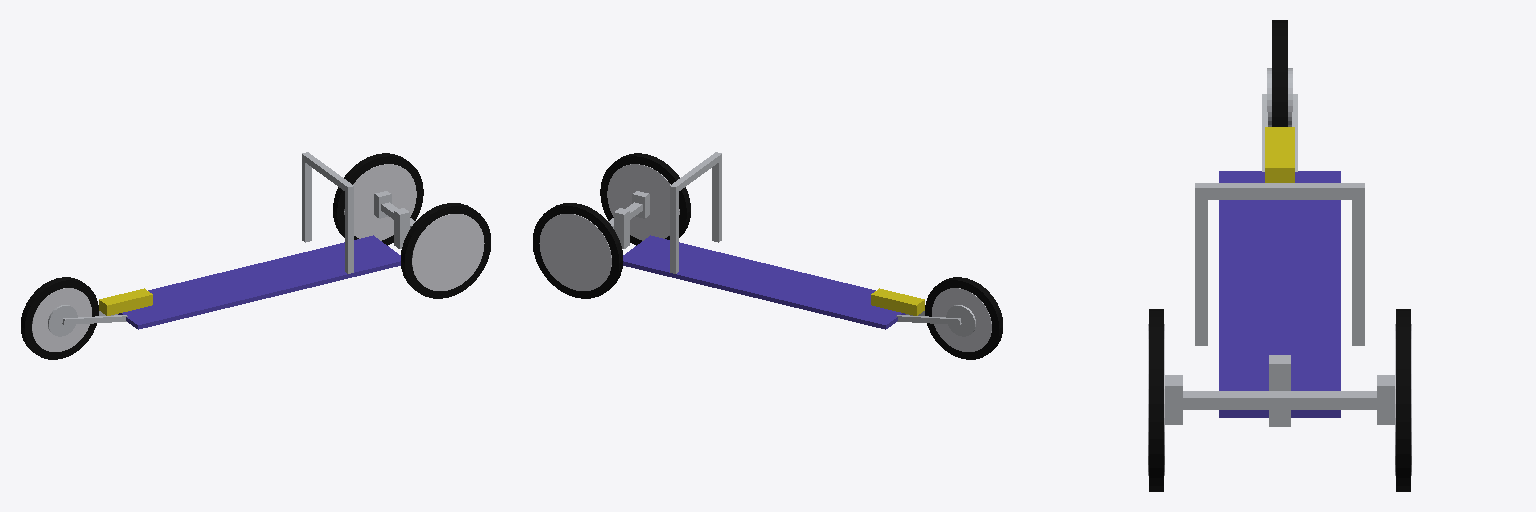
URDF robot description (enimia_black):
<?xml version="1.0"?>
<!--
  ENIMIA - Black Edition (ENIM Team Tunisia) - Prototype Shell Eco-marathon      v3 (surface lissee)
  Carrosserie reconstruite a partir des silhouettes des vues de dessus et de cote :
    - profil de toit / bas de caisse releve pixel par pixel sur la vue de cote
    - largeur (plan) relevee sur la vue de dessus
    - 2 carenes de roues avant (contour releve sur la vue de cote + vue de dessus)
    - vitrage (cockpit + vitres laterales) et bord de fuite rouge separes
  v3 : profils C2 (B-splines), raccords carenes/fuselage arrondis, lissage de Taubin,
       maillages COLLADA (.dae) avec normales par sommet -> ombrage lisse dans RViz/Gazebo.
       Copies STL (ombrage plat) dans meshes/stl/ pour les outils qui ne lisent pas le DAE.
  Dimensions : L 2684 x l 770 x h 695 mm, empattement 1704 mm,
               voie avant 567 mm, masse 25 kg
  Porte-a-faux : avant 593 mm, arriere 387 mm
  Roues : avant R 210 mm (limite par la carene), arriere R 180 mm (arc du pneu)

  Arbre cinematique :
    base_footprint (sol, milieu de l'empattement)
      └─ base_link (chassis, a hauteur d'axe avant)
           ├─ body_link               (coque + vitrage + bord de fuite, fixe : contient tout)
           ├─ front_left_steer_link   (revolute)   └─ front_left_wheel_link  (continuous)
           ├─ front_right_steer_link  (revolute)   └─ front_right_wheel_link (continuous)
           └─ rear_wheel_link         (continuous, motrice)
  Reperes REP-103 : X avant, Y gauche, Z haut. Unites SI.
-->
<robot name="enimia_black">

  <!-- ===================== Materiaux ===================== -->
  <material name="carbon_black"><color rgba="0.07 0.07 0.08 0.55"/></material>
  <material name="glass"><color rgba="0.20 0.32 0.40 0.35"/></material>
  <material name="tail_red"><color rgba="0.80 0.08 0.08 0.9"/></material>
  <material name="aluminium"><color rgba="0.75 0.76 0.78 1.0"/></material>
  <material name="tire"><color rgba="0.10 0.10 0.10 1.0"/></material>
  <material name="rim"><color rgba="0.82 0.82 0.84 1.0"/></material>
  <material name="floor"><color rgba="0.35 0.30 0.70 1.0"/></material>
  <material name="battery"><color rgba="0.85 0.80 0.15 1.0"/></material>

  <!-- ===================== Base ===================== -->
  <link name="base_footprint"/>

  <joint name="base_footprint_joint" type="fixed">
    <parent link="base_footprint"/>
    <child link="base_link"/>
    <origin xyz="0 0 0.21" rpy="0 0 0"/>
  </joint>

  <!-- Chassis : plancher, traverse avant, colonne de direction, arceau, bras arriere, batterie -->
  <link name="base_link">
    <visual>
      <origin xyz="0.0955 0.0000 -0.0850" rpy="0 0 0"/>
      <geometry><box size="1.3 0.28 0.02"/></geometry>
      <material name="floor"/>
    </visual>
    <visual>
      <origin xyz="0.8520 0.0000 0.0000" rpy="0 0 0"/>
      <geometry><box size="0.04 0.48 0.03"/></geometry>
      <material name="aluminium"/>
    </visual>
    <visual>
      <origin xyz="0.8020 0.0000 0.0000" rpy="0 0 0"/>
      <geometry><box size="0.05 0.05 0.16"/></geometry>
      <material name="aluminium"/>
    </visual>
    <visual>
      <origin xyz="0.4455 0.0000 0.3400" rpy="0 0 0"/>
      <geometry><box size="0.03 0.39 0.03"/></geometry>
      <material name="aluminium"/>
    </visual>
    <visual>
      <origin xyz="0.4455 0.1800 0.1500" rpy="0 0 0"/>
      <geometry><box size="0.03 0.03 0.39"/></geometry>
      <material name="aluminium"/>
    </visual>
    <visual>
      <origin xyz="0.4455 -0.1800 0.1500" rpy="0 0 0"/>
      <geometry><box size="0.03 0.03 0.39"/></geometry>
      <material name="aluminium"/>
    </visual>
    <visual>
      <origin xyz="-0.7020 0.0350 -0.0575" rpy="0 0.18 0"/>
      <geometry><box size="0.31 0.015 0.025"/></geometry>
      <material name="aluminium"/>
    </visual>
    <visual>
      <origin xyz="-0.7020 -0.0350 -0.0575" rpy="0 0.18 0"/>
      <geometry><box size="0.31 0.015 0.025"/></geometry>
      <material name="aluminium"/>
    </visual>
    <visual>
      <origin xyz="-0.5320 0.0000 -0.0300" rpy="0 0 0"/>
      <geometry><box size="0.22 0.07 0.05"/></geometry>
      <material name="battery"/>
    </visual>
    <collision>
      <origin xyz="0.0955 0 -0.0850" rpy="0 0 0"/>
      <geometry><box size="1.3 0.28 0.02"/></geometry>
    </collision>
    <inertial>
      <origin xyz="-0.05 0 -0.050" rpy="0 0 0"/>
      <mass value="12.7"/>
      <inertia ixx="0.137583" ixy="0" ixz="0" iyy="2.42358" iyz="0" izz="2.4765"/>
    </inertial>
  </link>

  <!-- ===================== Coque (corps) ===================== -->
  <!-- Maillages exprimes dans le repere sol (origine au milieu de l'empattement) -->
  <link name="body_link">
    <visual>
      <origin xyz="0 0 0" rpy="0 0 0"/>
      <geometry><mesh filename="package://enimia_black_description/meshes/body_shell.dae"/></geometry>
      <material name="carbon_black"/>
    </visual>
    <visual>
      <origin xyz="0 0 0" rpy="0 0 0"/>
      <geometry><mesh filename="package://enimia_black_description/meshes/canopy.dae"/></geometry>
      <material name="glass"/>
    </visual>
    <visual>
      <origin xyz="0 0 0" rpy="0 0 0"/>
      <geometry><mesh filename="package://enimia_black_description/meshes/tail_tip.dae"/></geometry>
      <material name="tail_red"/>
    </visual>
    <collision>
      <origin xyz="0 0 0" rpy="0 0 0"/>
      <geometry><mesh filename="package://enimia_black_description/meshes/body_collision.stl"/></geometry>
    </collision>
    <inertial>
      <origin xyz="0.1939 0 0.329146" rpy="0 0 0"/>
      <mass value="7.0"/>
      <inertia ixx="0.587735" ixy="0.00022506" ixz="0.084203" iyy="3.65022" iyz="0" izz="3.67245"/>
    </inertial>
  </link>

  <joint name="body_joint" type="fixed">
    <parent link="base_link"/>
    <child link="body_link"/>
    <origin xyz="0 0 -0.21" rpy="0 0 0"/>
  </joint>

  <!-- ===================== Roue avant gauche (dans sa carene) ===================== -->
  <link name="front_left_steer_link">
    <visual>
      <origin xyz="0 -0.040 0" rpy="0 0 0"/>
      <geometry><box size="0.06 0.04 0.10"/></geometry>
      <material name="aluminium"/>
    </visual>
    <inertial>
      <origin xyz="0 -0.040 0" rpy="0 0 0"/>
      <mass value="0.4"/>
      <inertia ixx="0.000386667" ixy="0" ixz="0" iyy="0.000453333" iyz="0" izz="0.000173333"/>
    </inertial>
  </link>

  <joint name="front_left_steer_joint" type="revolute">
    <parent link="base_link"/>
    <child link="front_left_steer_link"/>
    <origin xyz="0.8520 0.2835 0" rpy="0 0 0"/>
    <axis xyz="0 0 1"/>
    <limit lower="-0.21" upper="0.21" effort="20" velocity="2.0"/>
    <dynamics damping="0.1" friction="0.05"/>
  </joint>

  <link name="front_left_wheel_link">
    <visual>
      <origin xyz="0 0 0" rpy="1.5708 0 0"/>
      <geometry><cylinder radius="0.21" length="0.035"/></geometry>
      <material name="tire"/>
    </visual>
    <visual>
      <origin xyz="0 0 0" rpy="1.5708 0 0"/>
      <geometry><cylinder radius="0.175" length="0.039"/></geometry>
      <material name="rim"/>
    </visual>
    <collision>
      <origin xyz="0 0 0" rpy="1.5708 0 0"/>
      <geometry><cylinder radius="0.21" length="0.035"/></geometry>
    </collision>
    <inertial>
      <origin xyz="0 0 0" rpy="0 0 0"/>
      <mass value="1.0"/>
      <inertia ixx="0.0179333" ixy="0" ixz="0" iyy="0.0356625" iyz="0" izz="0.0179333"/>
    </inertial>
  </link>

  <joint name="front_left_wheel_joint" type="continuous">
    <parent link="front_left_steer_link"/>
    <child link="front_left_wheel_link"/>
    <origin xyz="0 0 0" rpy="0 0 0"/>
    <axis xyz="0 1 0"/>
    <limit effort="10" velocity="40"/>
    <dynamics damping="0.01" friction="0.0"/>
  </joint>

  <!-- ===================== Roue avant droite (dans sa carene) ===================== -->
  <link name="front_right_steer_link">
    <visual>
      <origin xyz="0 0.040 0" rpy="0 0 0"/>
      <geometry><box size="0.06 0.04 0.10"/></geometry>
      <material name="aluminium"/>
    </visual>
    <inertial>
      <origin xyz="0 0.040 0" rpy="0 0 0"/>
      <mass value="0.4"/>
      <inertia ixx="0.000386667" ixy="0" ixz="0" iyy="0.000453333" iyz="0" izz="0.000173333"/>
    </inertial>
  </link>

  <joint name="front_right_steer_joint" type="revolute">
    <parent link="base_link"/>
    <child link="front_right_steer_link"/>
    <origin xyz="0.8520 -0.2835 0" rpy="0 0 0"/>
    <axis xyz="0 0 1"/>
    <limit lower="-0.21" upper="0.21" effort="20" velocity="2.0"/>
    <dynamics damping="0.1" friction="0.05"/>
  </joint>

  <link name="front_right_wheel_link">
    <visual>
      <origin xyz="0 0 0" rpy="1.5708 0 0"/>
      <geometry><cylinder radius="0.21" length="0.035"/></geometry>
      <material name="tire"/>
    </visual>
    <visual>
      <origin xyz="0 0 0" rpy="1.5708 0 0"/>
      <geometry><cylinder radius="0.175" length="0.039"/></geometry>
      <material name="rim"/>
    </visual>
    <collision>
      <origin xyz="0 0 0" rpy="1.5708 0 0"/>
      <geometry><cylinder radius="0.21" length="0.035"/></geometry>
    </collision>
    <inertial>
      <origin xyz="0 0 0" rpy="0 0 0"/>
      <mass value="1.0"/>
      <inertia ixx="0.0179333" ixy="0" ixz="0" iyy="0.0356625" iyz="0" izz="0.0179333"/>
    </inertial>
  </link>

  <joint name="front_right_wheel_joint" type="continuous">
    <parent link="front_right_steer_link"/>
    <child link="front_right_wheel_link"/>
    <origin xyz="0 0 0" rpy="0 0 0"/>
    <axis xyz="0 1 0"/>
    <limit effort="10" velocity="40"/>
    <dynamics damping="0.01" friction="0.0"/>
  </joint>

  <!-- ===================== Roue arriere motrice (moteur-roue) ===================== -->
  <link name="rear_wheel_link">
    <visual>
      <origin xyz="0 0 0" rpy="1.5708 0 0"/>
      <geometry><cylinder radius="0.18" length="0.035"/></geometry>
      <material name="tire"/>
    </visual>
    <visual>
      <origin xyz="0 0 0" rpy="1.5708 0 0"/>
      <geometry><cylinder radius="0.145" length="0.039"/></geometry>
      <material name="rim"/>
    </visual>
    <visual>
      <origin xyz="0 0 0" rpy="1.5708 0 0"/>
      <geometry><cylinder radius="0.07" length="0.06"/></geometry>
      <material name="aluminium"/>
    </visual>
    <collision>
      <origin xyz="0 0 0" rpy="1.5708 0 0"/>
      <geometry><cylinder radius="0.18" length="0.035"/></geometry>
    </collision>
    <inertial>
      <origin xyz="0 0 0" rpy="0 0 0"/>
      <mass value="2.5"/>
      <inertia ixx="0.0142319" ixy="0" ixz="0" iyy="0.02732" iyz="0" izz="0.0142319"/>
    </inertial>
  </link>

  <joint name="rear_wheel_joint" type="continuous">
    <parent link="base_link"/>
    <child link="rear_wheel_link"/>
    <origin xyz="-0.8520 0 -0.030" rpy="0 0 0"/>
    <axis xyz="0 1 0"/>
    <limit effort="15" velocity="40"/>
    <dynamics damping="0.01" friction="0.0"/>
  </joint>

  <!-- ===================== Capteurs ===================== -->
  <!--
    Repere REP-103: X avant, Y gauche, Z haut.
    Positions de simulation: a remplacer par les mesures reelles des supports.
  -->

  <!-- IMU: proche du centre du chassis, sur la ligne mediane. -->
  <link name="imu_link"/>
  <joint name="imu_joint" type="fixed">
    <parent link="base_link"/>
    <child link="imu_link"/>
    <origin xyz="0.000 0.000 0.060" rpy="0 0 0"/>
  </joint>

  <!-- GPS/GNSS: au-dessus de la coque, sur la ligne mediane. -->
  <link name="gps_link"/>
  <joint name="gps_joint" type="fixed">
    <parent link="base_link"/>
    <child link="gps_link"/>
    <origin xyz="-0.100 0.000 0.455" rpy="0 0 0"/>
  </joint>

  <!--
    LiDAR: 8 deg incline vers le bas pour mieux voir les petits cones
    et obstacles bas du Shell Eco-marathon.
    +8 deg de pitch autour de Y => axe X du LiDAR pointe legerement vers le sol.
  -->
  <link name="lidar_link"/>
  <joint name="lidar_joint" type="fixed">
    <parent link="base_link"/>
    <child link="lidar_link"/>
    <origin xyz="0.100 0.000 0.445" rpy="0 0.139626 0"/>
  </joint>

  <!-- ===================== Gazebo (adherence pneus) ===================== -->
  <gazebo reference="front_left_wheel_link"><mu1>1.0</mu1><mu2>1.0</mu2></gazebo>
  <gazebo reference="front_right_wheel_link"><mu1>1.0</mu1><mu2>1.0</mu2></gazebo>
  <gazebo reference="rear_wheel_link"><mu1>1.0</mu1><mu2>1.0</mu2></gazebo>

</robot>

--- Facts derived from the render (not from the file) ---
The picture shows the robot from 3 angles, left to right: view 1: azimuth 30°, elevation 25°; view 2: azimuth 150°, elevation 25°; view 3: azimuth 270°, elevation 25°; orthographic projection.
Robot: enimia_black — 11 links, 10 joints (2 revolute, 3 continuous, 5 fixed); root link base_footprint; default pose: all joints at 0.
Visible links, largest first — view 1: base_link, front_right_wheel_link, front_left_wheel_link, rear_wheel_link; view 2: base_link, front_left_wheel_link, front_right_wheel_link, rear_wheel_link; view 3: base_link, front_left_wheel_link, front_right_wheel_link, rear_wheel_link, front_left_steer_link, front_right_steer_link.
Boxes of the visible links, x1,y1,x2,y2 form: base_link: [62, 152, 415, 329]; front_right_wheel_link: [401, 203, 490, 298]; front_left_wheel_link: [333, 153, 423, 245]; rear_wheel_link: [21, 277, 98, 359]; base_link: [608, 152, 961, 329]; front_left_wheel_link: [533, 203, 622, 298]; front_right_wheel_link: [600, 153, 690, 245]; rear_wheel_link: [925, 277, 1002, 359]; base_link: [1183, 94, 1376, 426]; front_left_wheel_link: [1395, 309, 1411, 491]; front_right_wheel_link: [1148, 309, 1164, 491]; rear_wheel_link: [1267, 20, 1292, 126]; front_left_steer_link: [1377, 375, 1394, 424]; front_right_steer_link: [1165, 375, 1182, 424].
Size in the robot's own frame: 2.09 by 0.606 by 0.565 metres.
Meshes: 3 distinct files referenced, 0 mesh visuals loaded (none loaded); not drawn: 3 (reference not matched to a file when rendering).
